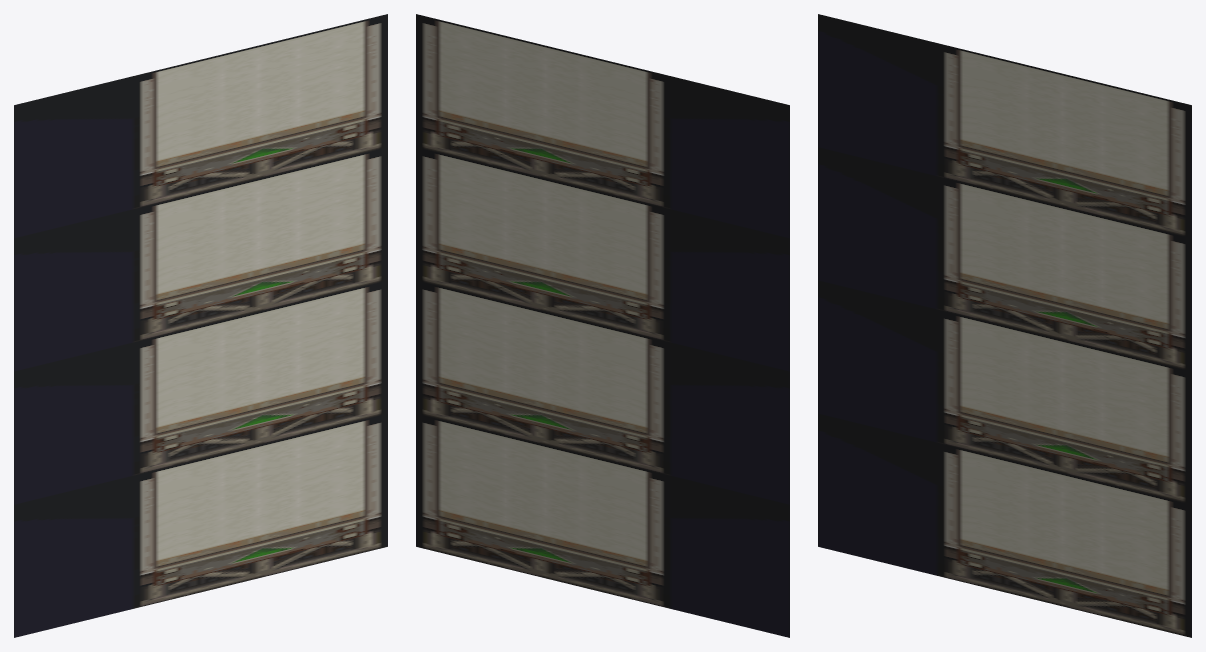
Rendered from OBJ_Editor_StairsCap_LU.glb.
The picture shows the model from 3 angles, left to right: view 1: azimuth 30°, elevation 25°; view 2: azimuth 150°, elevation 25°; view 3: azimuth 330°, elevation 25°; orthographic projection.
Parts seen in each view (by area): view 1: Renderer, Renderer (1), Renderer (2), Renderer (3); view 2: Renderer, Renderer (1), Renderer (2), Renderer (3); view 3: Renderer, Renderer (1), Renderer (2), Renderer (3).
Boxes of the visible parts, x1,y1,x2,y2 form: Renderer: (14, 413, 387, 637); Renderer (1): (14, 280, 387, 504); Renderer (2): (14, 147, 387, 371); Renderer (3): (14, 14, 387, 238); Renderer: (416, 413, 789, 637); Renderer (1): (416, 280, 789, 504); Renderer (2): (416, 147, 789, 371); Renderer (3): (416, 14, 789, 238); Renderer: (818, 413, 1191, 637); Renderer (1): (818, 280, 1191, 504); Renderer (2): (818, 147, 1191, 371); Renderer (3): (818, 14, 1191, 238).
Size of the model in its own units: 2.94 by 4 by 6.12e-17.
Materials: 4 (4 with a texture image).
